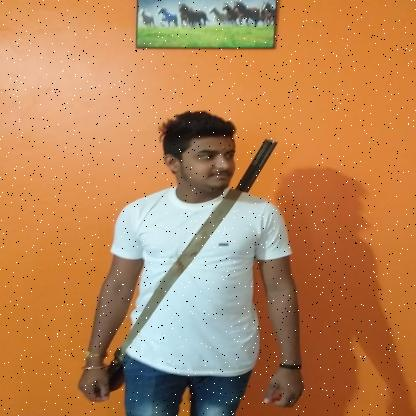rifle: (90, 136, 280, 396)
